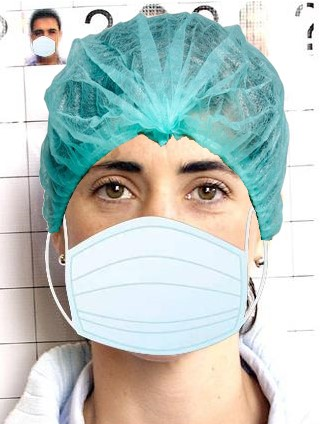with_mask_and_cap: (39, 11, 290, 357)
